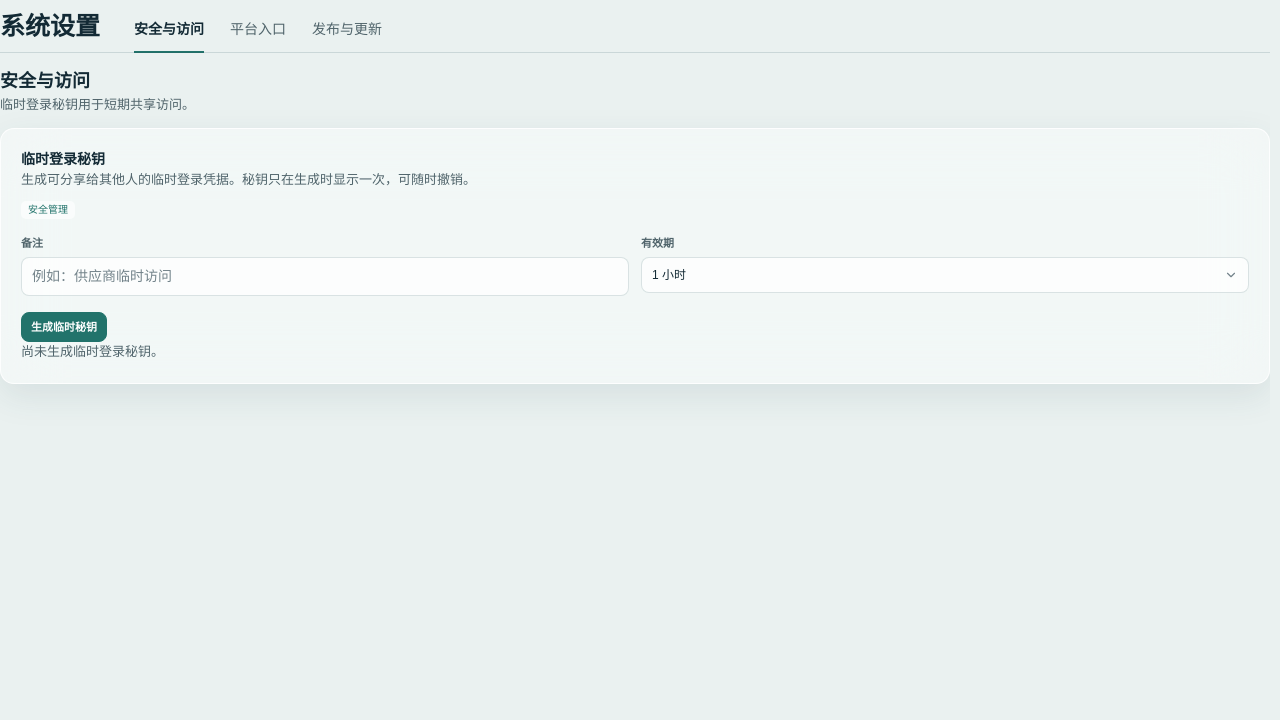
Test: SystemSettings view › keeps release controls usable when webhook generation fails
Click the button with test id "system-settings-tab-release". click: (347, 36)
box: [312, 19, 382, 52]
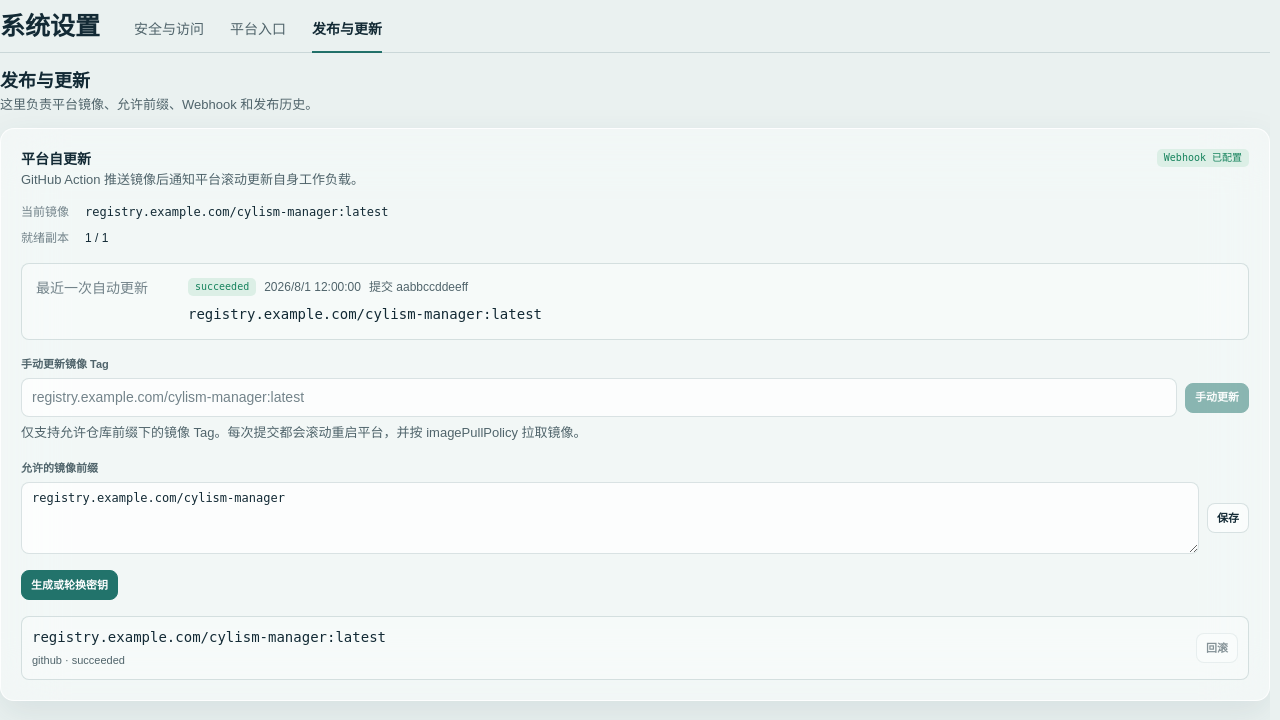
Click the button with test id "generate-platform-webhook-secret". click: (70, 585)
box: [21, 570, 118, 600]
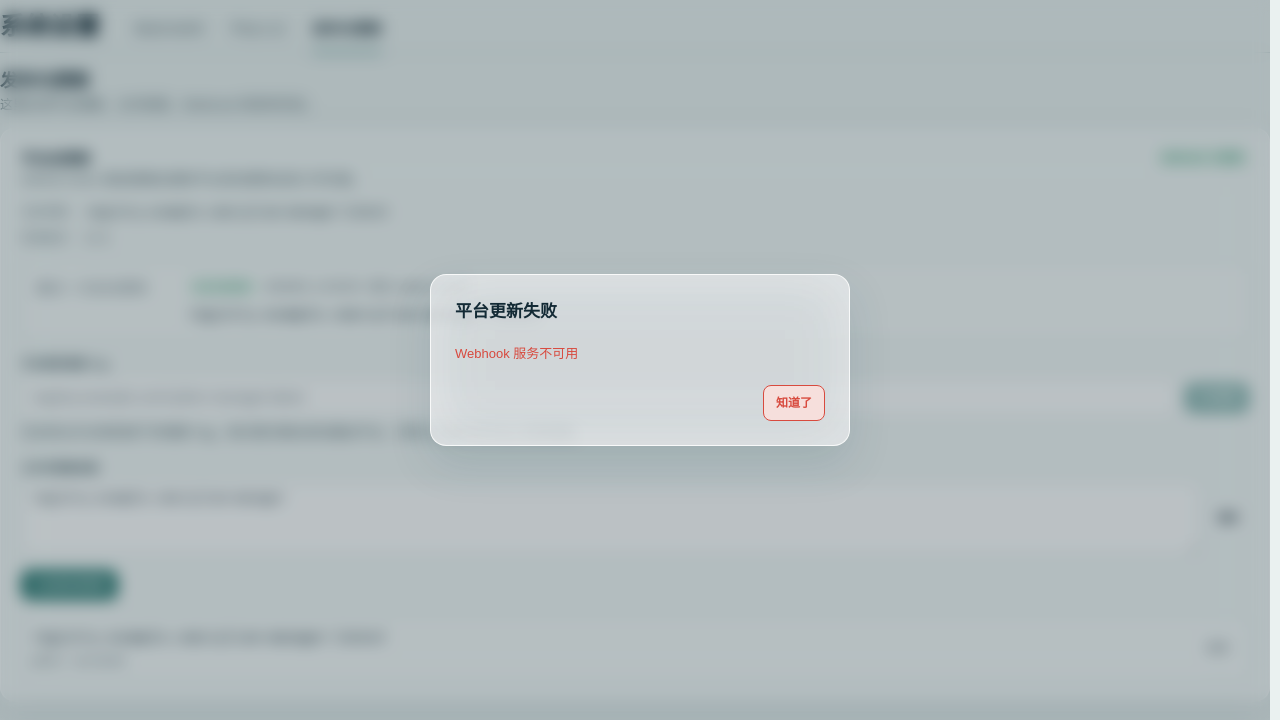
Result: the button with test id "generate-platform-webhook-secret" is enabled at [21, 570, 118, 600]
Result: the text "Webhook 服务不可用" is shown at [455, 346, 578, 361]
